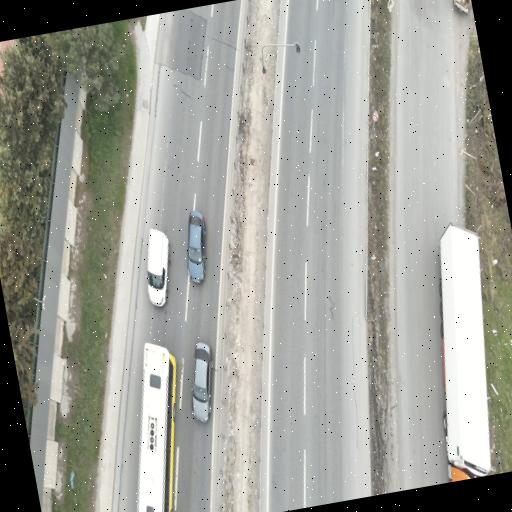bus: (138, 343, 176, 511)
car: (147, 229, 169, 306), (192, 342, 213, 422), (188, 211, 206, 283)
truck: (440, 223, 491, 481), (454, 0, 471, 12)
